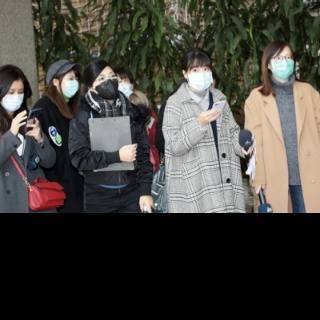with_mask: (187, 63, 212, 92), (95, 70, 119, 100), (270, 52, 294, 79), (1, 86, 24, 112), (61, 73, 80, 99), (116, 78, 132, 97)
